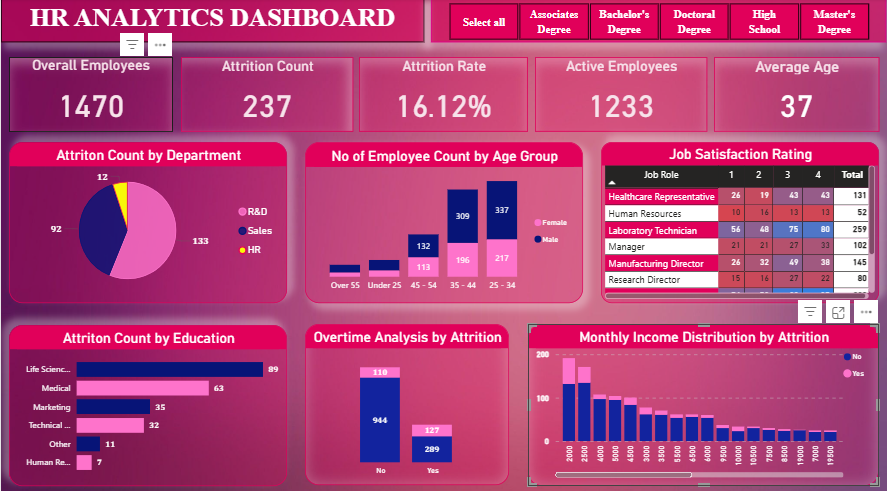

Layout of this report page (visuals, bound fields, positions):
{"tool":"powerbi","page":{"name":"HR Analytics","canvas":[1280,720],"ordinal":0},"visuals":[{"type":"textbox","box":[0,0,611.6,63.6],"z":0},{"type":"slicer","fields":{"Values":["HR Data xlsx - HR data.Education"]},"box":[621.7,0,657.8,63.6],"z":1000},{"type":"card","title":"Overall Employees","fields":{"Values":["Sum(HR Data xlsx - HR data.Employee Count)"]},"box":[11.6,85.3,237.1,108.4],"z":2000},{"type":"card","title":"Attrition Count","fields":{"Values":["Sum(HR Data xlsx - HR data.Attriton Count)"]},"box":[260.2,85.3,248.7,108.4],"z":3000},{"type":"card","title":"Attrition Rate","fields":{"Values":["HR Data xlsx - HR data.Attrition Rate"]},"box":[517.6,85.3,244.3,108.4],"z":4000},{"type":"card","title":"Average Age","fields":{"Values":["Avg(HR Data xlsx - HR data.Age)"]},"box":[1030.8,85.3,238.6,108.4],"z":5000},{"type":"card","title":"Active Employees","fields":{"Values":["HR Data xlsx - HR data.Active Employee"]},"box":[772,85.3,248.7,108.4],"z":6000},{"type":"pieChart","title":"Attriton Count by Department","fields":{"Category":["HR Data xlsx - HR data.Department"],"Y":["Sum(HR Data xlsx - HR data.Attriton Count)"]},"box":[11.6,208.2,401.9,232.8],"z":7000},{"type":"columnChart","title":"No of Employee Count by Age Group","fields":{"Category":["HR Data xlsx - HR data.CF_age band"],"Y":["CountNonNull(HR Data xlsx - HR data.Employee Count)"],"Series":["HR Data xlsx - HR data.Gender"]},"box":[439.5,208.2,401.9,232.8],"z":8000},{"type":"pivotTable","title":"Job Satisfaction Rating","fields":{"Rows":["HR Data xlsx - HR data.Job Role"],"Columns":["HR Data xlsx - HR data.Job Satisfaction"],"Values":["Sum(HR Data xlsx - HR data.Employee Count)"]},"box":[867.5,208.2,401.9,232.8],"z":9000},{"type":"barChart","title":"Attriton Count by Education","fields":{"Category":["HR Data xlsx - HR data.Education Field"],"Y":["Sum(HR Data xlsx - HR data.Attriton Count)"]},"box":[11.6,472.8,401.9,232.8],"z":10000},{"type":"columnChart","title":"Overtime Analysis by Attrition","fields":{"Category":["HR Data xlsx - HR data.Over Time"],"Y":["Sum(HR Data xlsx - HR data.Employee Count)"],"Series":["HR Data xlsx - HR data.Attrition"]},"box":[439.5,471.3,294.9,232.8],"z":11000},{"type":"lineStackedColumnComboChart","title":"Monthly Income Distribution by Attrition","fields":{"Category":["HR Data xlsx - HR data.Monthly Income (bins)"],"Y":["Sum(HR Data xlsx - HR data.Employee Count)"],"Series":["HR Data xlsx - HR data.Attrition"]},"box":[761.9,471.3,507.5,234.2],"z":12000}]}

Visuals, with their boxes in screenshot pixels (x1, y1, x2, y2), scaled from the page's 1280x720 canvas onto the 887x491 screenshot:
textbox: locate(0, 0, 424, 43)
slicer - HR Data xlsx - HR data.Education: locate(431, 0, 886, 43)
"Overall Employees" card: locate(8, 58, 172, 132)
"Attrition Count" card: locate(180, 58, 353, 132)
"Attrition Rate" card: locate(359, 58, 528, 132)
"Average Age" card: locate(714, 58, 880, 132)
"Active Employees" card: locate(535, 58, 707, 132)
"Attriton Count by Department" pieChart: locate(8, 142, 287, 301)
"No of Employee Count by Age Group" columnChart: locate(305, 142, 583, 301)
"Job Satisfaction Rating" pivotTable: locate(601, 142, 880, 301)
"Attriton Count by Education" barChart: locate(8, 322, 287, 481)
"Overtime Analysis by Attrition" columnChart: locate(305, 321, 509, 480)
"Monthly Income Distribution by Attrition" lineStackedColumnComboChart: locate(528, 321, 880, 481)
